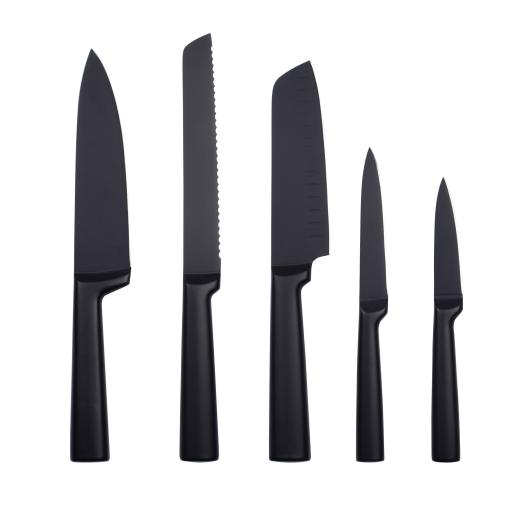knife: (53, 44, 135, 476)
